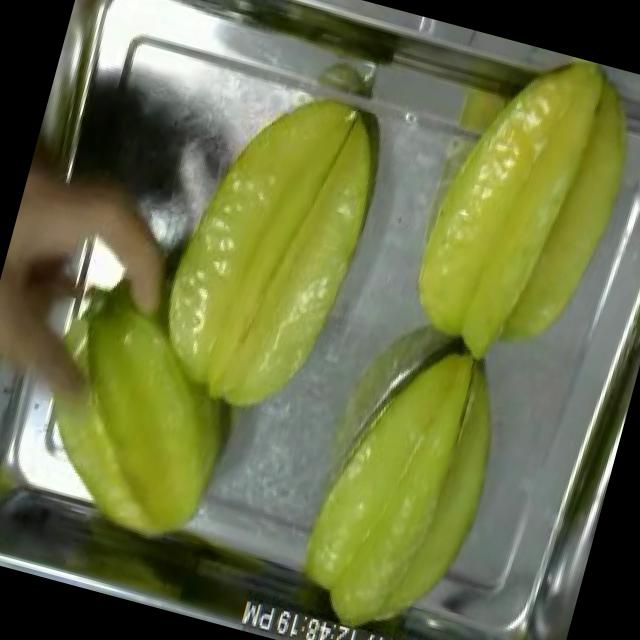fruit: (125, 53, 413, 444), (383, 28, 640, 400), (277, 307, 536, 640), (7, 257, 279, 568)
